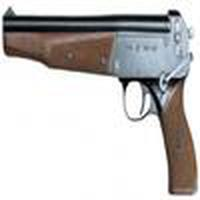gun: (1, 8, 200, 196)
